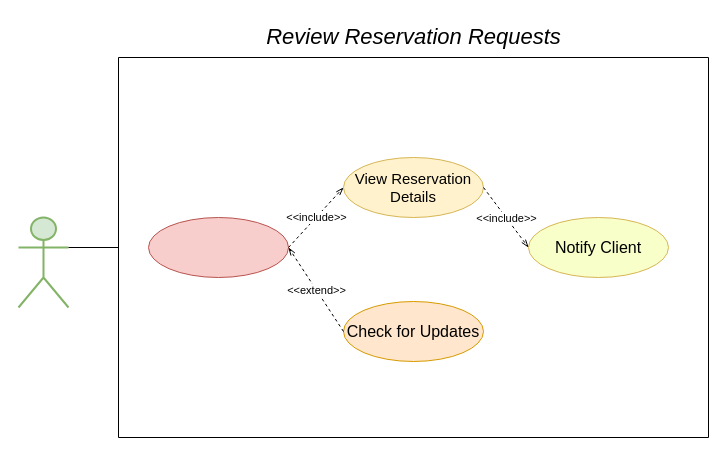
Image size: 726x455. Some labels were removed from this diagram. Each missing label, with the centre of its shape:
Admin: the point at 43,262
Review Requests: the point at 218,247
